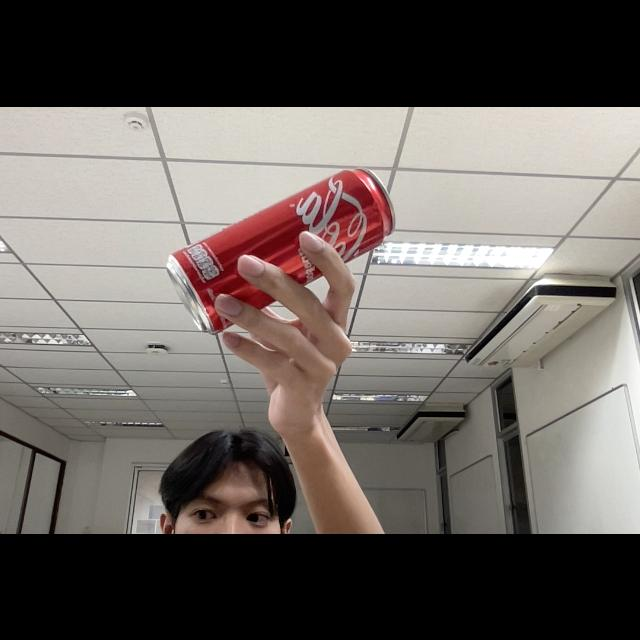can: (158, 152, 392, 338)
